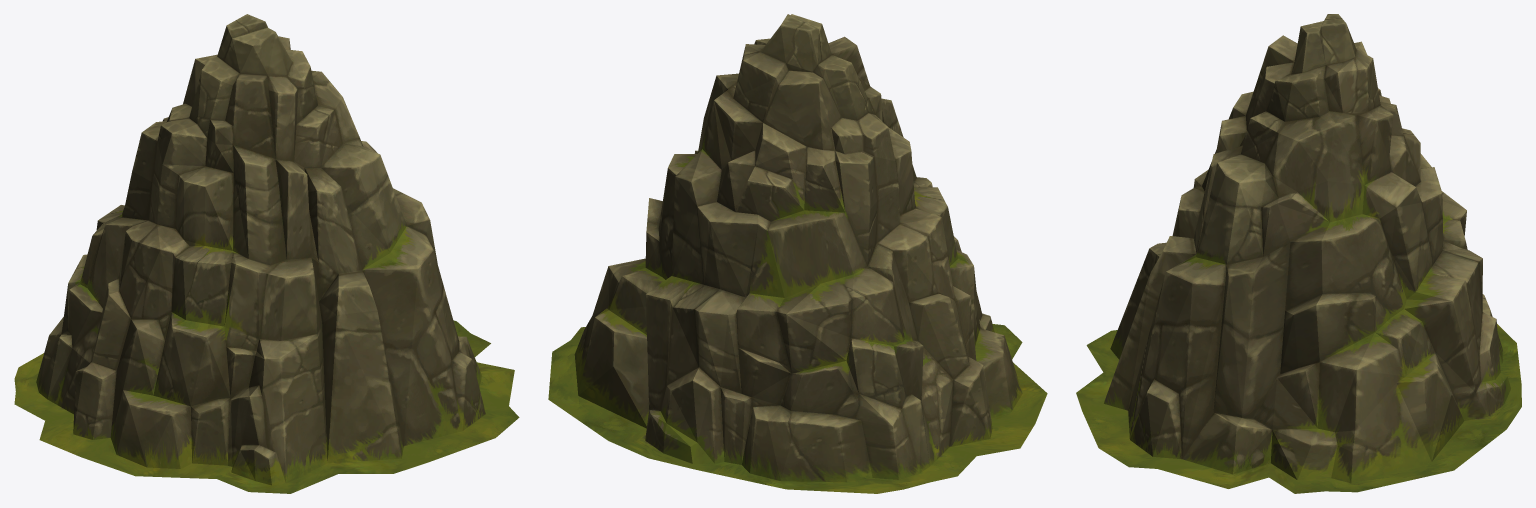
The model's file is zone01_ridge01.fbx.
3 renders of one model, left to right at view 1: azimuth 30°, elevation 25°; view 2: azimuth 150°, elevation 25°; view 3: azimuth 270°, elevation 25°, orthographic. The views are drawn at different scales.
Visible parts, largest first — view 1: obj0.010; view 2: obj0.010; view 3: obj0.010.
Part boxes in pixels (bbox=[...]): obj0.010: bbox=[14, 14, 519, 493]; obj0.010: bbox=[548, 14, 1047, 493]; obj0.010: bbox=[1076, 14, 1521, 493].
Bounding box in the file's own units: 27.09 × 21.52 × 23.87.
